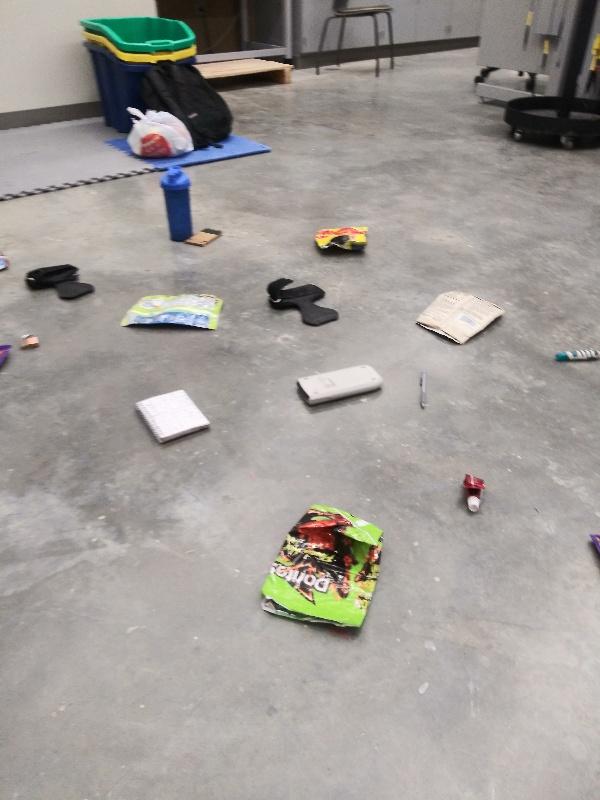bag: (252, 497, 390, 639), (409, 287, 510, 350), (114, 290, 227, 342), (312, 220, 372, 258)
